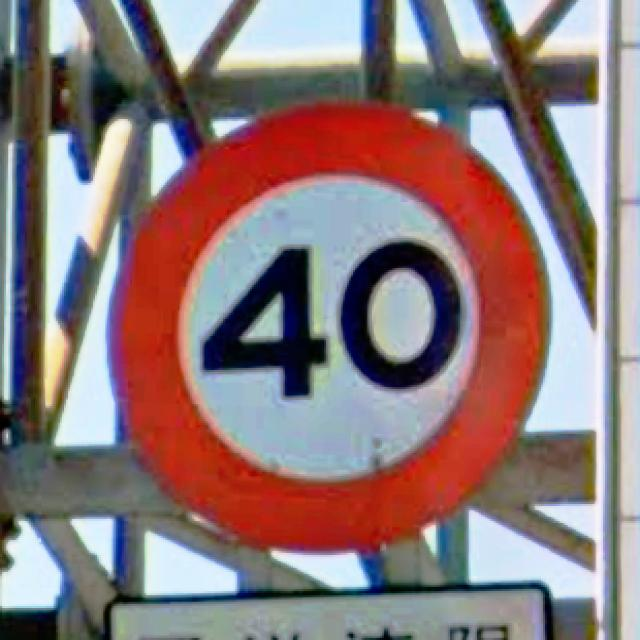max40: (104, 96, 554, 553)
